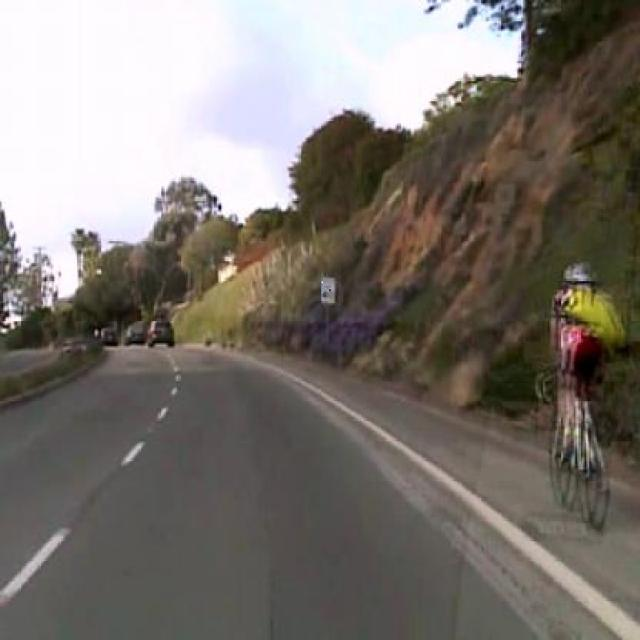speedLimit40: (318, 277, 335, 305)
